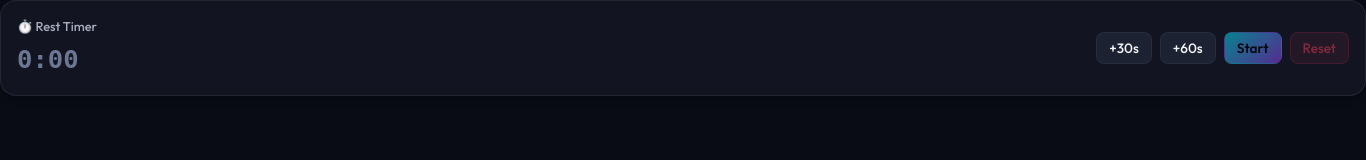
Test: RestTimer Component › should add 30 seconds and start the timer when clicking +30s
The image size is (1366, 160).
Click the button "+30s" at point(1124, 48), box [1096,32,1152,64]
Wait 5000 ms
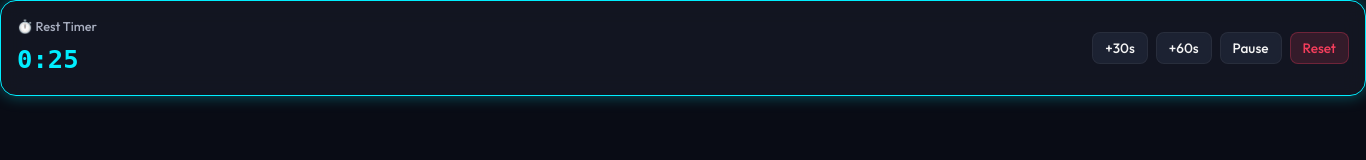
Result: the button "Pause" is shown at [1220,32,1282,64]
Result: the text "0:25" is shown at [17,44,79,74]
